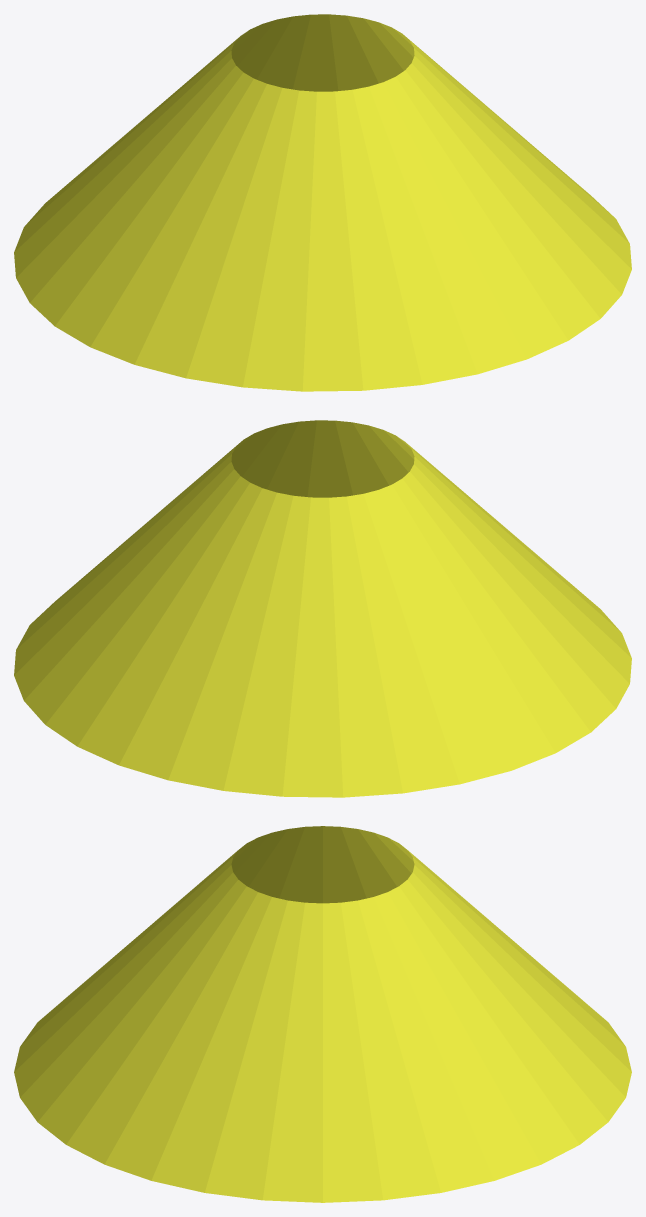
File: kisa_koni.fbx
The picture shows the model from 3 angles, top to bottom: view 1: azimuth 30°, elevation 25°; view 2: azimuth 150°, elevation 25°; view 3: azimuth 270°, elevation 25°; orthographic projection.
Visible parts, largest first — view 1: Cylinder; view 2: Cylinder; view 3: Cylinder.
Boxes of the visible parts, x1,y1,x2,y2 form: Cylinder: [14, 14, 631, 391]; Cylinder: [14, 420, 631, 797]; Cylinder: [14, 826, 631, 1202].
Size of the model in its own units: 200 by 74.12 by 200.
